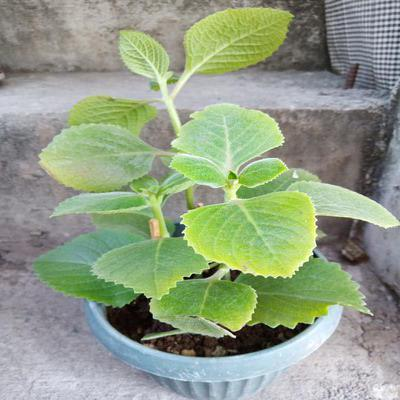Oregano: (70, 102, 364, 359)
